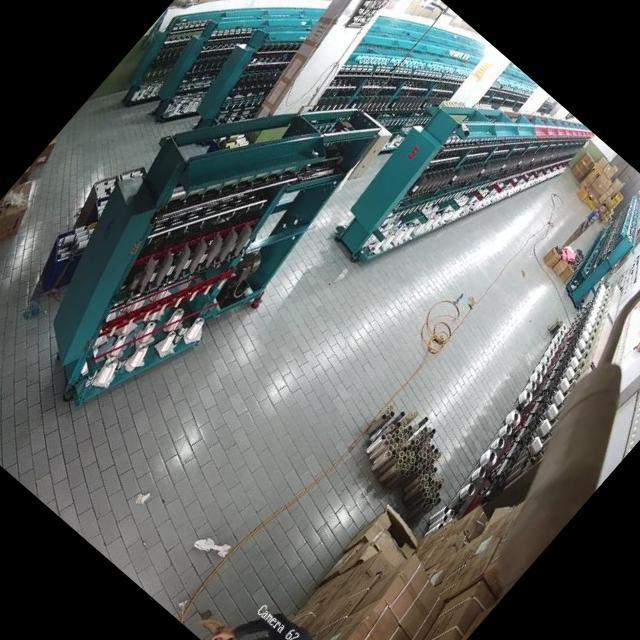person: (229, 599, 342, 640), (566, 201, 610, 249)
